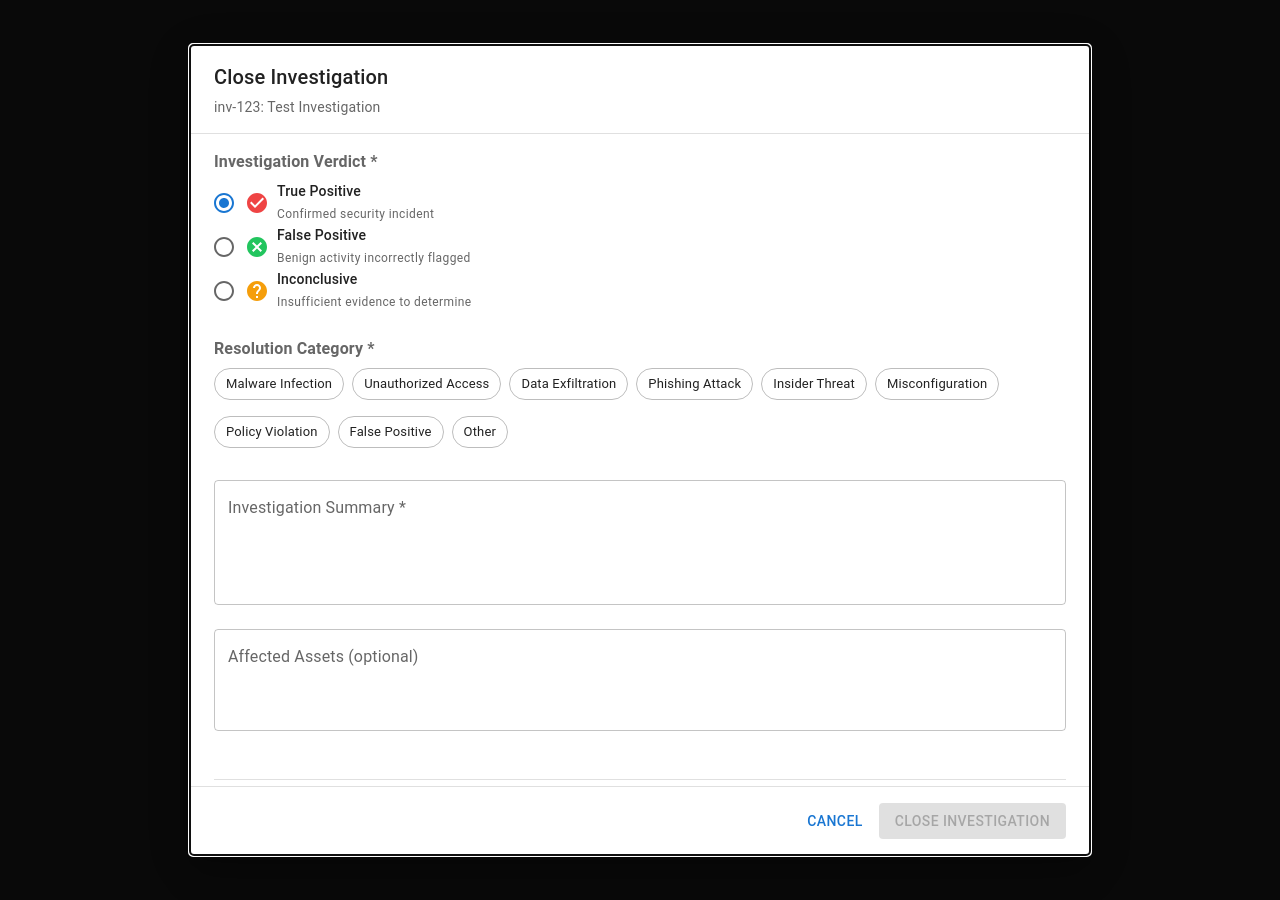
it: VerdictModal › shows error when submit fails
The width and height of the screenshot is (1280, 900).
Click the button "Malware Infection": (279, 384) [214,368,344,400]
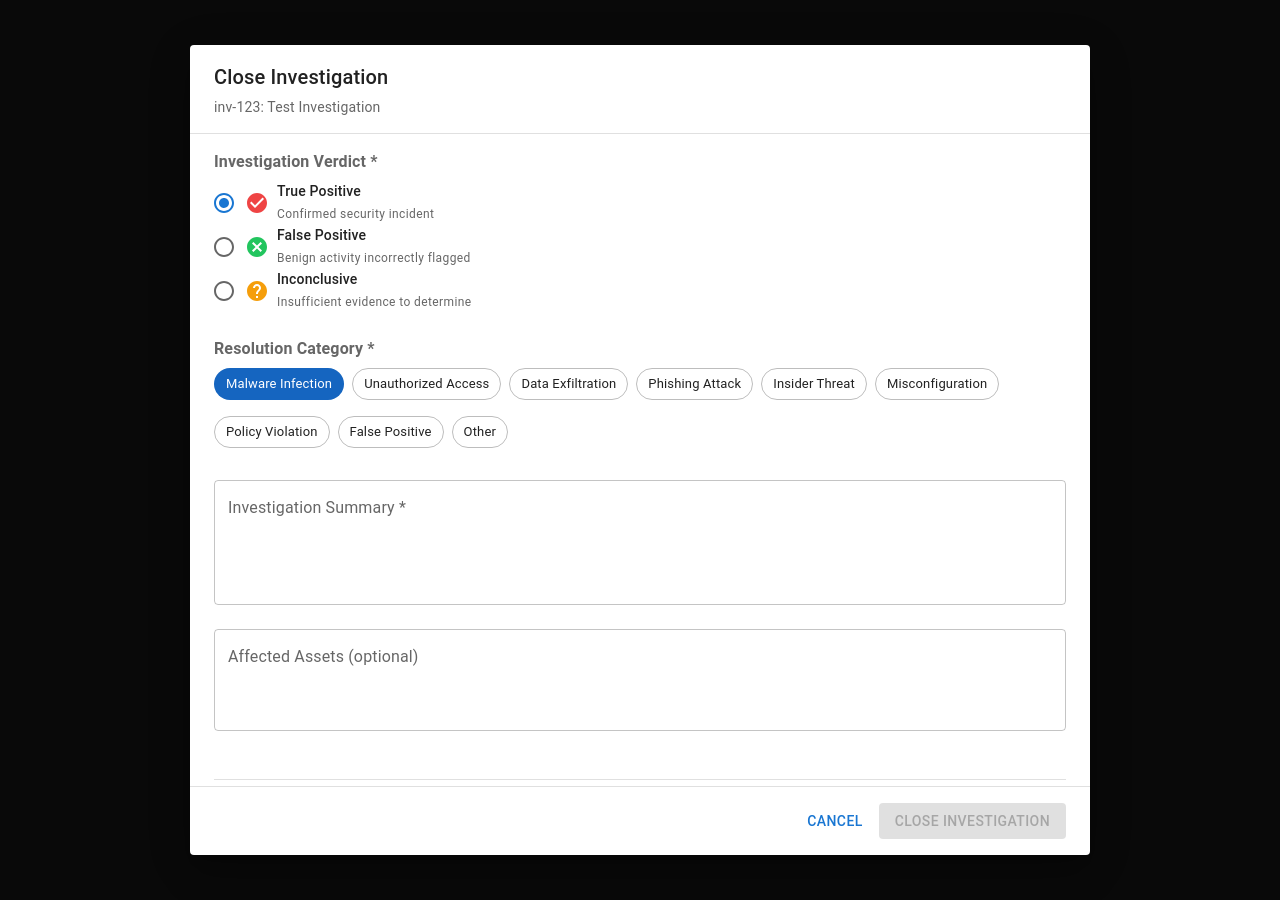
In the text box labelled "Investigation Summary *": (640, 543) [228,497,1052,589], type "Test summary"
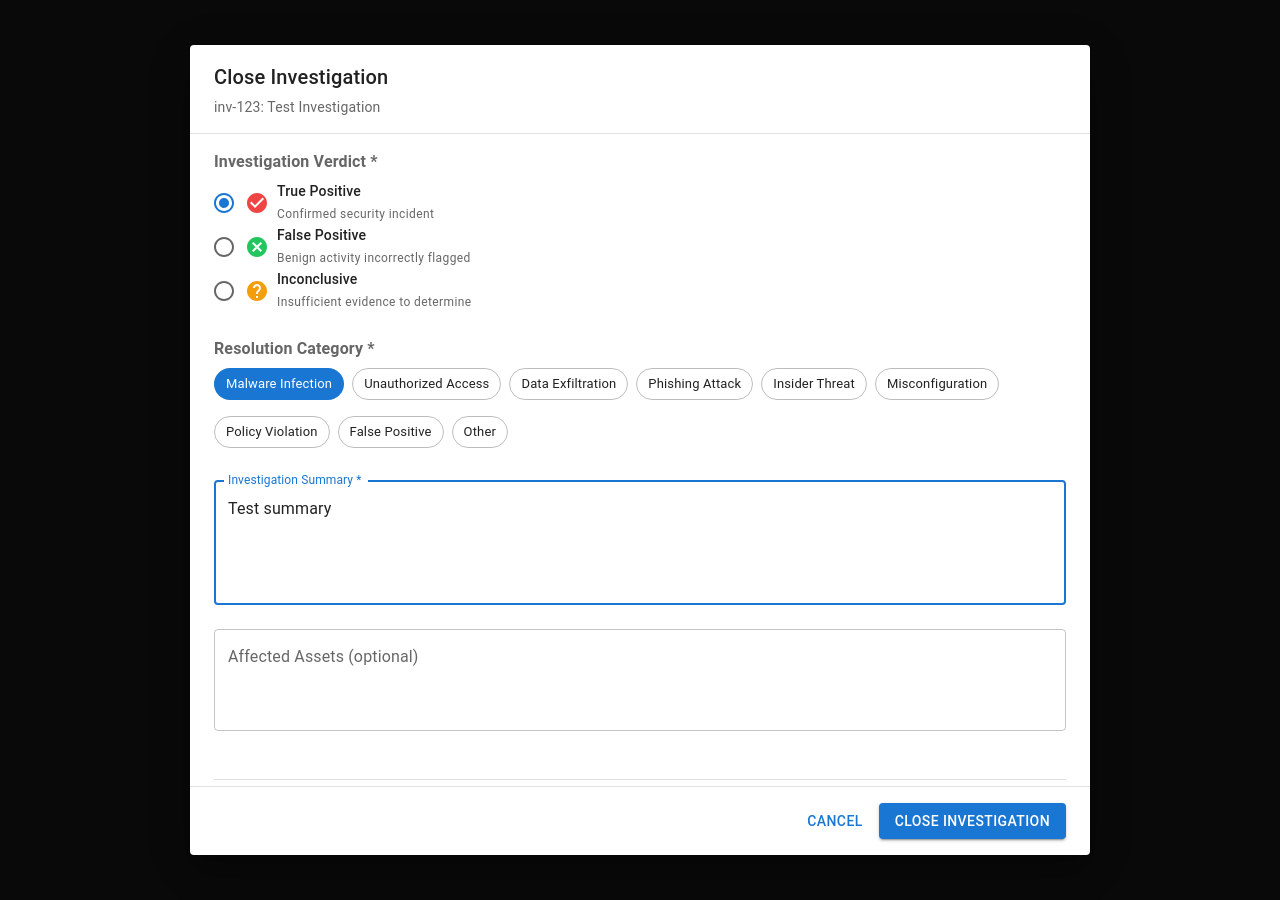
Click the button "Close Investigation": (972, 821) [879,802,1066,839]
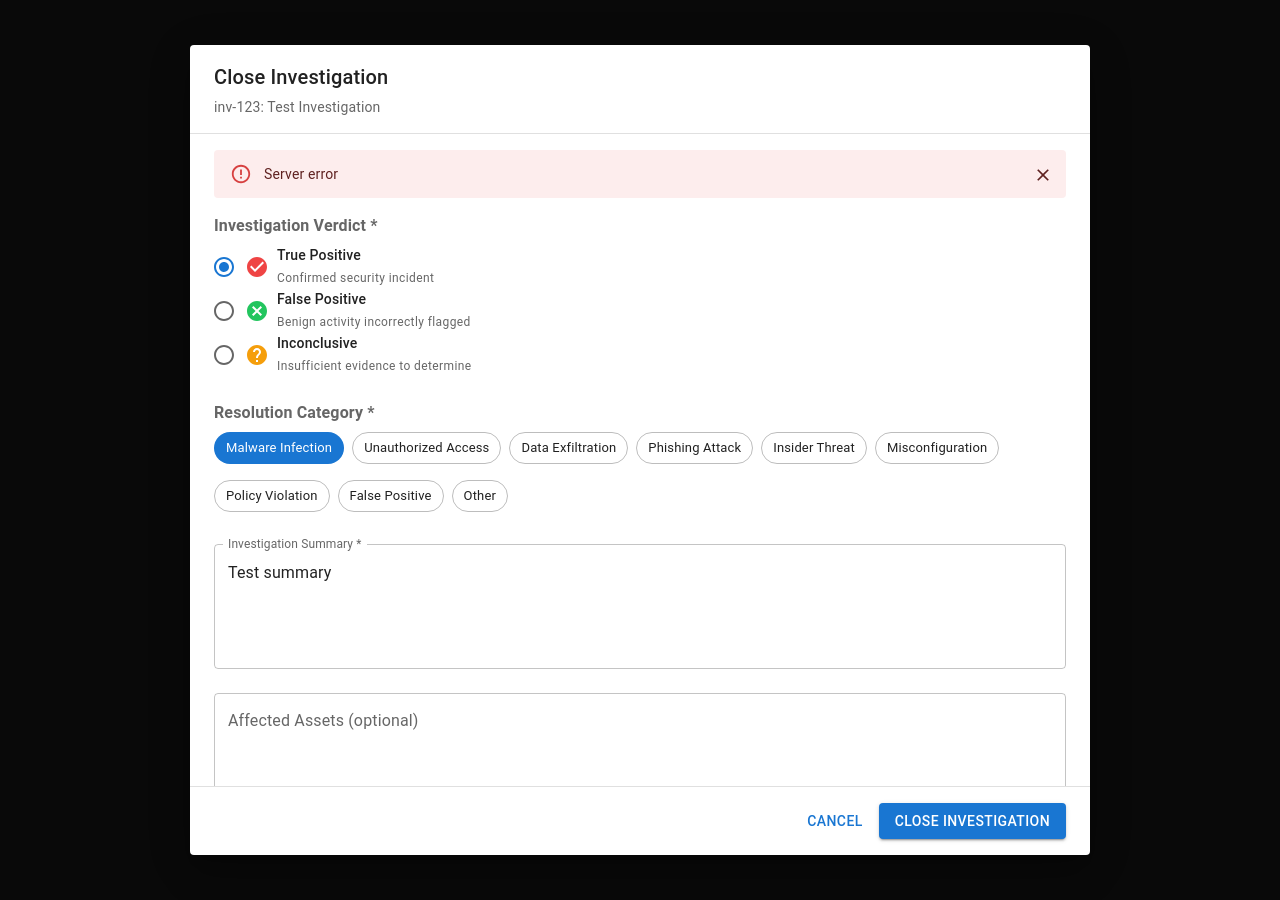
Expected: the text "Server error" is shown, [264,166,338,182]
